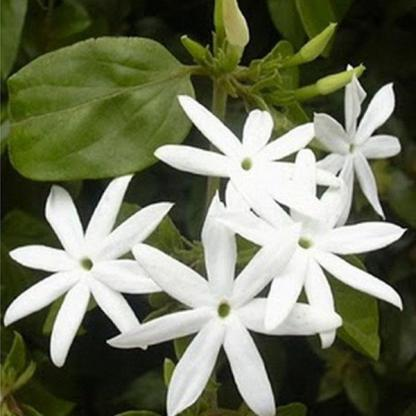Melati: (106, 235, 287, 406), (210, 166, 389, 330), (22, 178, 151, 340), (171, 97, 325, 220), (300, 68, 399, 191)
